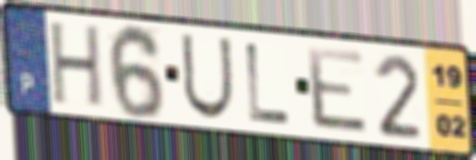2: (371, 52, 425, 143)
6: (105, 20, 168, 122)
E: (304, 43, 372, 137)
H: (49, 20, 105, 111)
L: (243, 39, 294, 127)
U: (178, 31, 236, 122)
